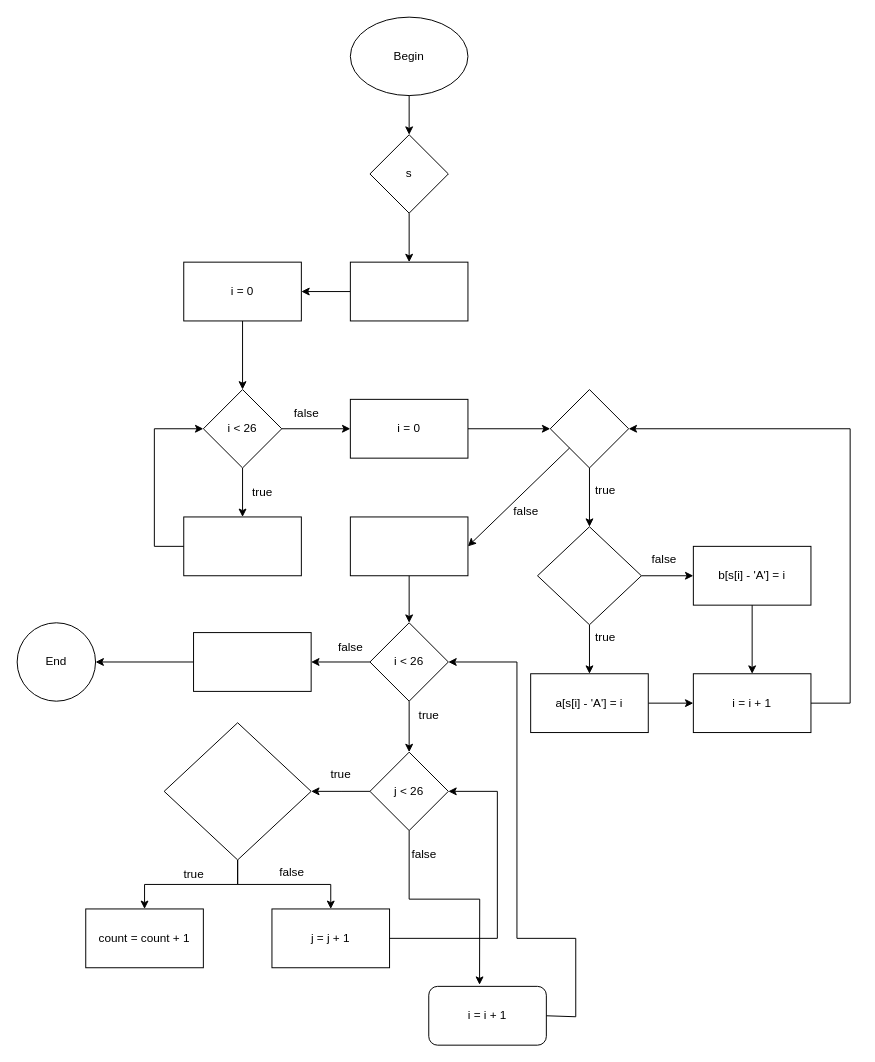
The diagram is 875 pixels wide and 1062 high, and some of its shapes have lost their labels. The shapes that lost their labels are listed below. From the top down, each one's centre as x and y in pixels, then its label:
At (408,291): "count = 0 a[26], b[26]".
At (589,428): "i < 52".
At (242,546): "a[i] = -1 i = i + 1".
At (408,546): "i = 0 j = 0".
At (589,575): "a[s[i] - 'A'] = -1".
At (252,661): "print count".
At (237,791): "a[i] < a[j] && a[j] < b[i] && b[i] < b[j]".
